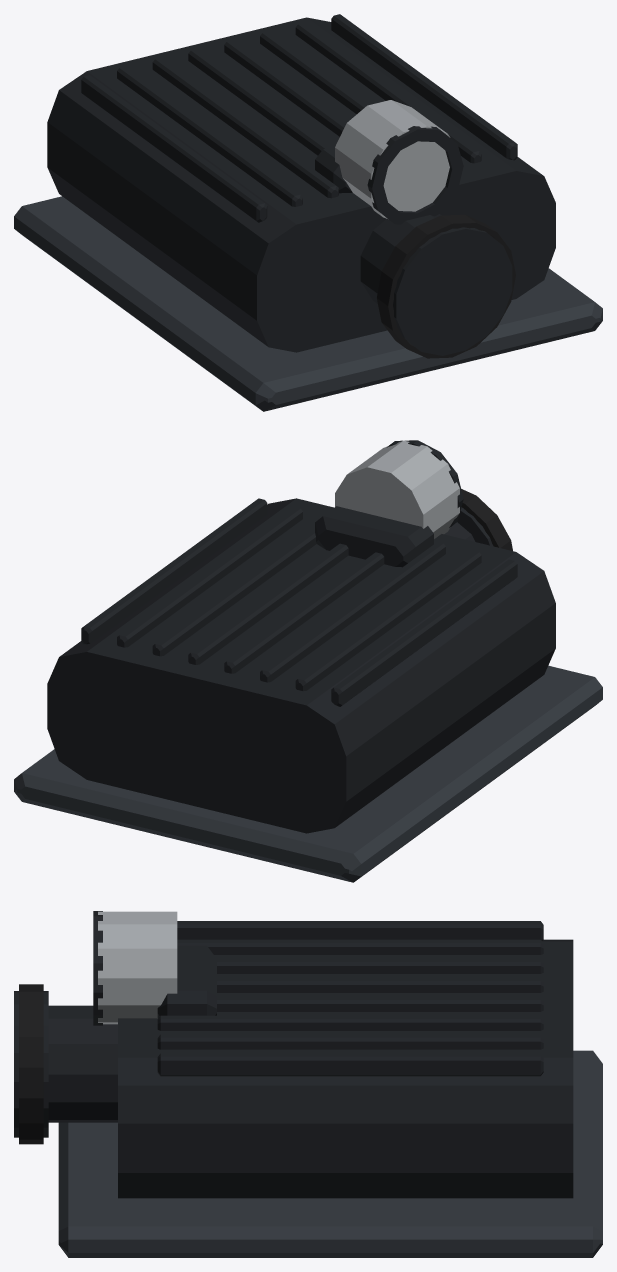
Rendered from brute_500_supercharger.glb.
3 renders of one model, top to bottom at view 1: azimuth 30°, elevation 25°; view 2: azimuth 150°, elevation 25°; view 3: azimuth 270°, elevation 25°, orthographic. The views are drawn at different scales.
Visible parts, largest first — view 1: model; view 2: model; view 3: model.
Boxes of the visible parts, <box> form: model: <box>14,14,602,411</box>; model: <box>14,440,602,882</box>; model: <box>14,911,602,1257</box>.
Size of the model in its own units: 0.44 by 0.2828 by 0.595.
3 materials, 1 textured.
